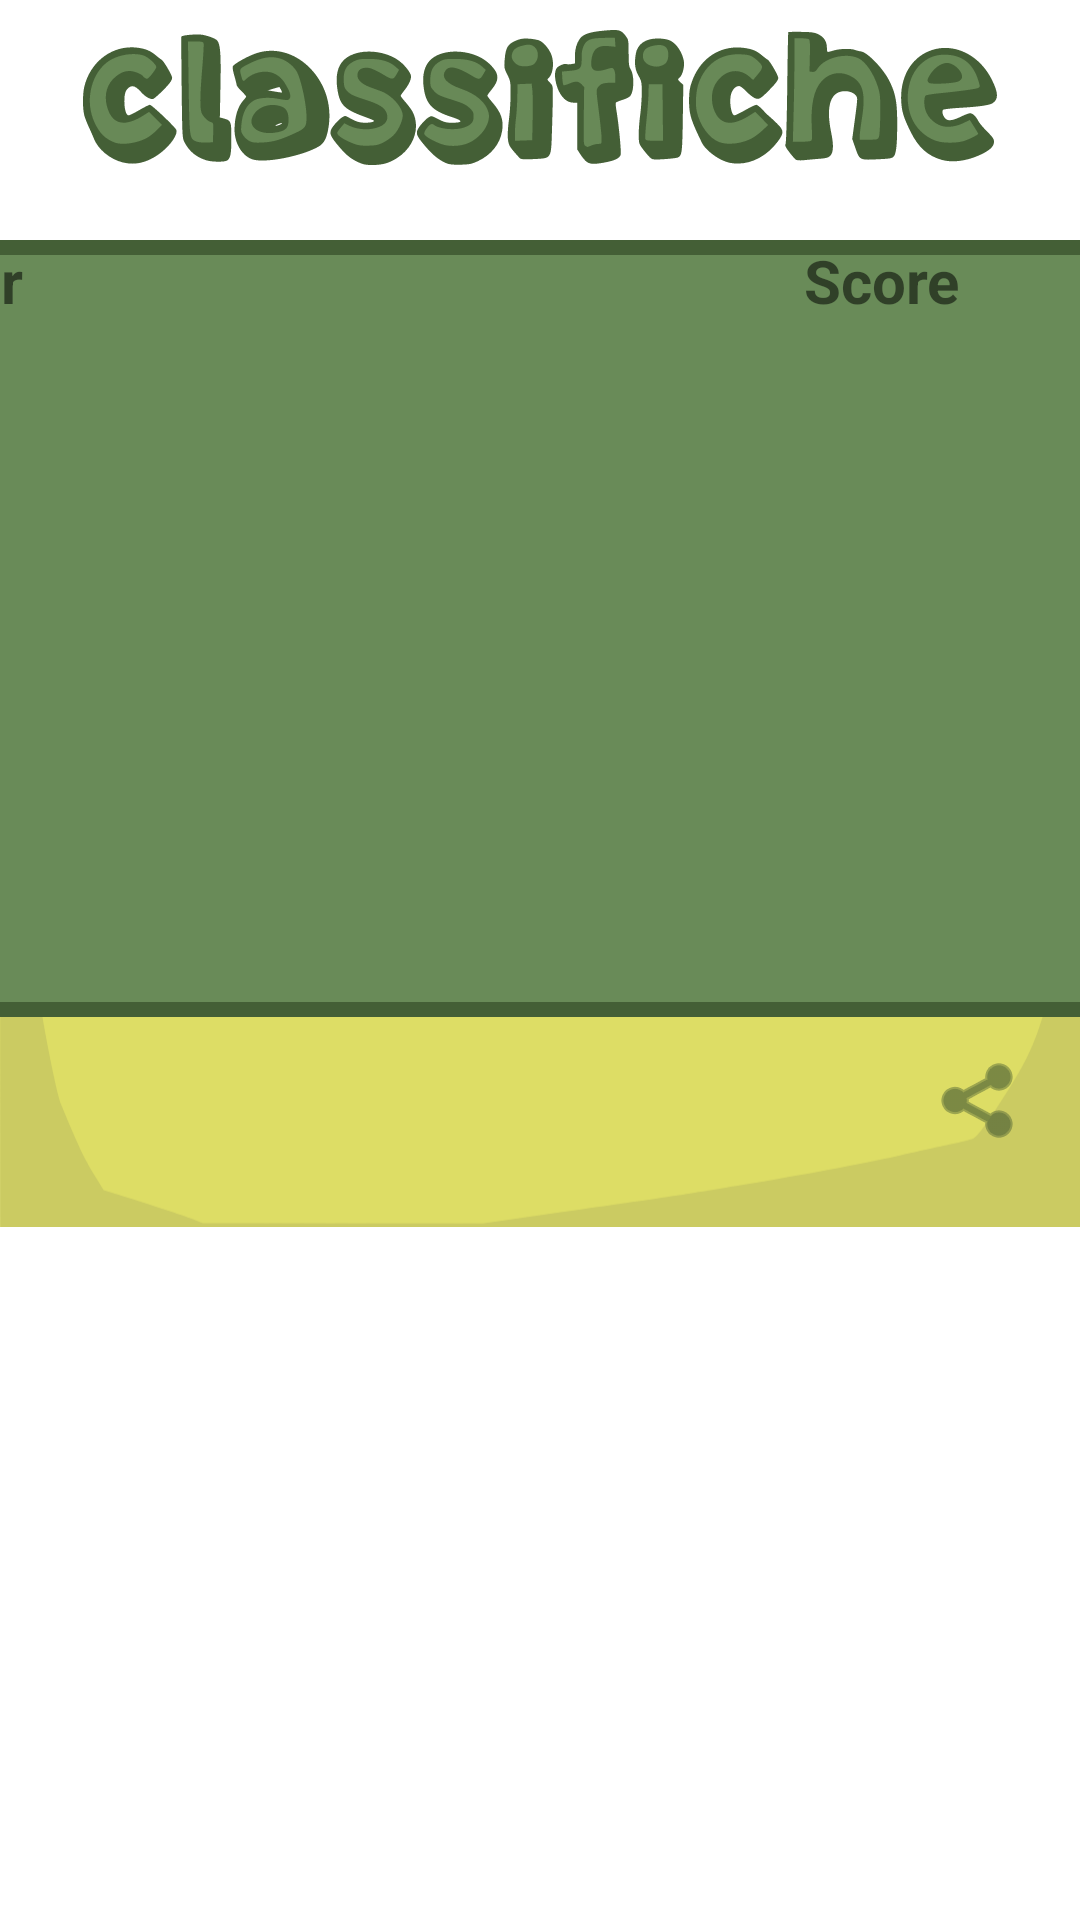

Screen size 1080*1920. Icon name, then its box in pixels as detection(x1, y1, x2, y2):
share: detection(910, 1029, 1038, 1153)
